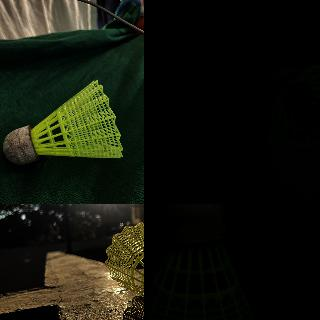shuttlecock: (144, 204, 270, 319), (3, 80, 123, 164), (267, 57, 319, 202), (104, 222, 143, 313)
